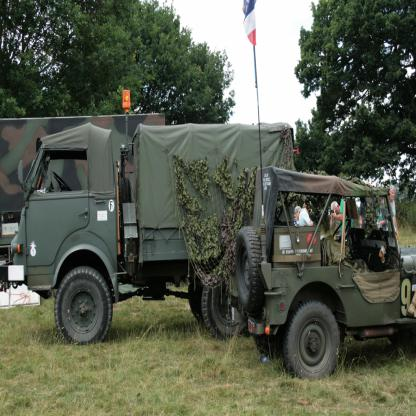Truck: (0, 90, 299, 345)
